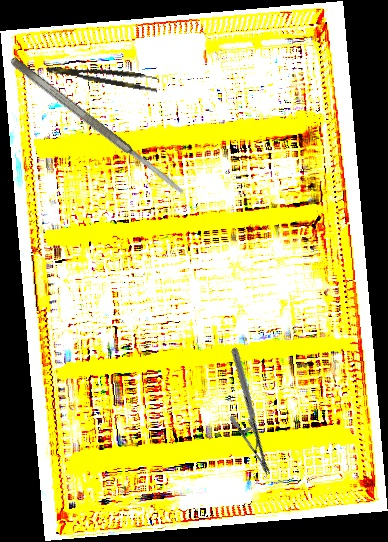Needle Holder: (186, 346, 316, 477)
Spatula Surgical: (7, 54, 189, 200)
Tissue Forceps: (46, 57, 160, 93)
